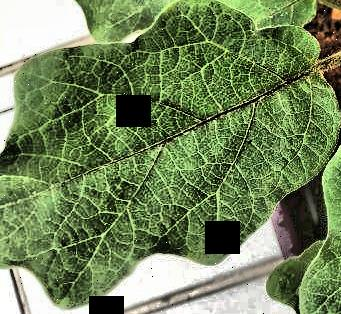HEALTHY: (1, 0, 341, 314)
